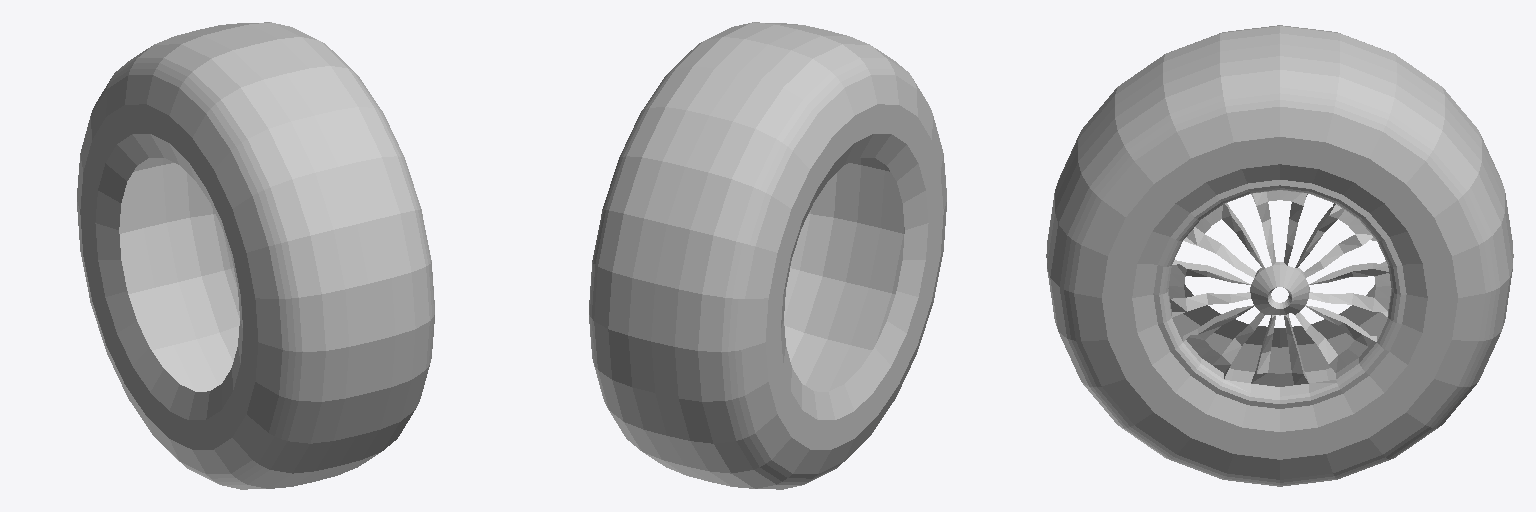
Rendered from Tire and Wheel 2.obj.
3 renders of one model, left to right at view 1: azimuth 30°, elevation 25°; view 2: azimuth 150°, elevation 25°; view 3: azimuth 270°, elevation 25°, orthographic.
Visible parts, largest first — view 1: loftedSurface1; view 2: loftedSurface1; view 3: loftedSurface1, loftedSurface4.
Boxes of the visible parts, box(x1,y1,x2,y2) form: loftedSurface1: box(77, 22, 434, 489); loftedSurface1: box(589, 22, 946, 489); loftedSurface1: box(1046, 25, 1513, 486); loftedSurface4: box(1153, 180, 1406, 408).
Size of the model in its own units: 2.72 by 6.36 by 6.36.